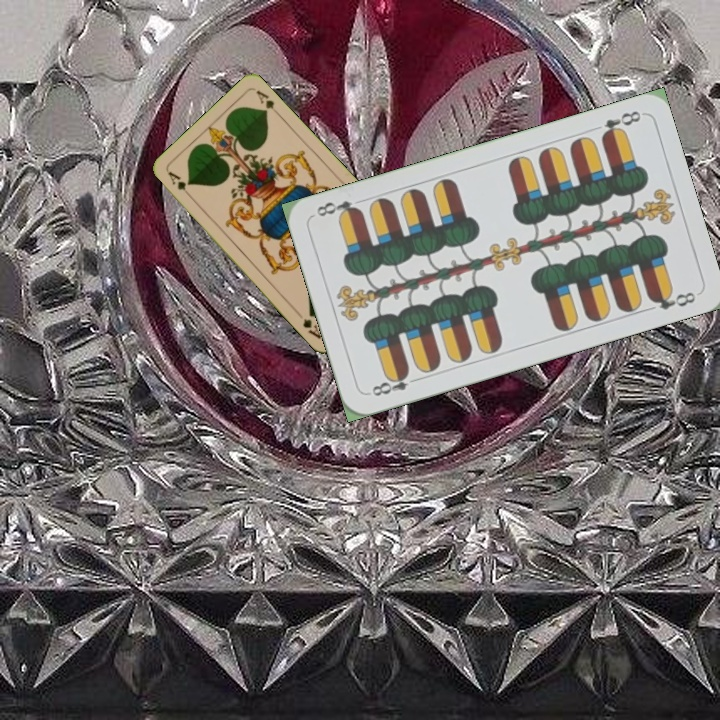E8: (368, 367, 423, 399), (597, 106, 644, 141)
GA: (164, 167, 195, 201)
